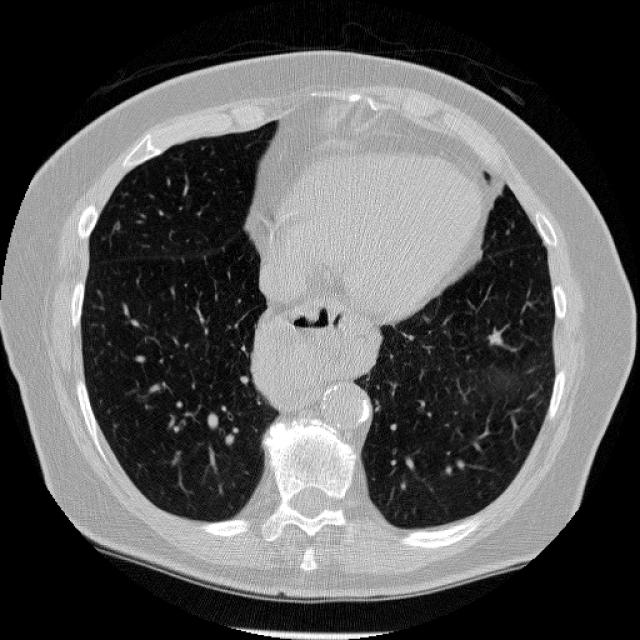nodule: (475, 319, 513, 356)
